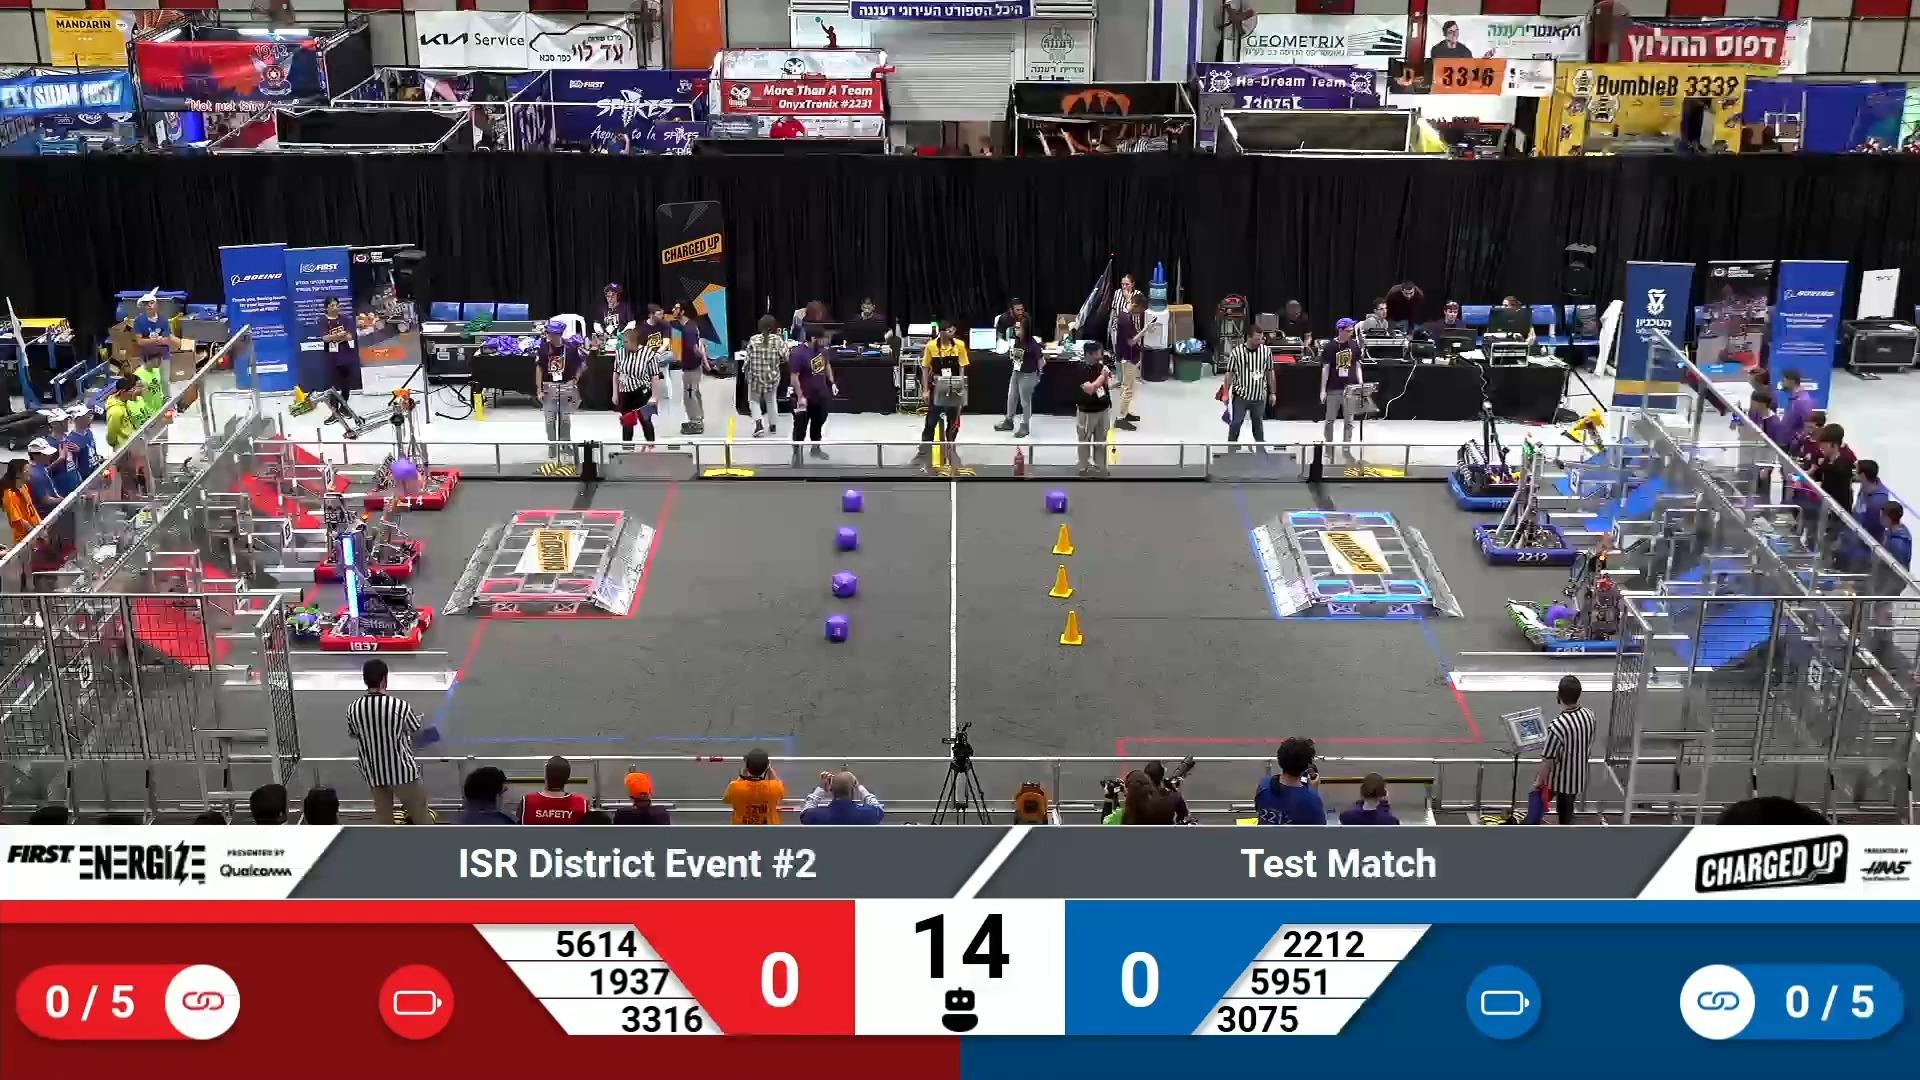robot: (287, 385, 460, 512), (1474, 434, 1586, 566), (313, 526, 433, 649), (1509, 547, 1639, 654), (1445, 404, 1539, 512), (315, 492, 426, 579)
